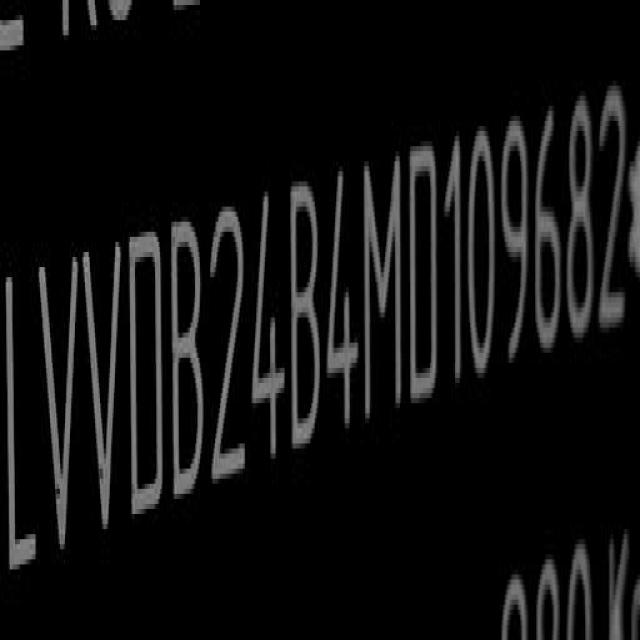0: (463, 123, 497, 386)
1: (442, 134, 463, 406)
2: (207, 196, 248, 492), (599, 76, 631, 339)
4: (324, 163, 362, 447), (252, 186, 288, 476)
6: (534, 103, 567, 355)
8: (567, 92, 596, 347)
9: (501, 115, 532, 368)
B: (171, 218, 208, 506), (292, 178, 324, 456)
D: (126, 226, 165, 526), (410, 140, 442, 414)
L: (2, 266, 36, 586)
M: (366, 150, 409, 432)
V: (36, 253, 80, 573), (82, 235, 126, 552)
